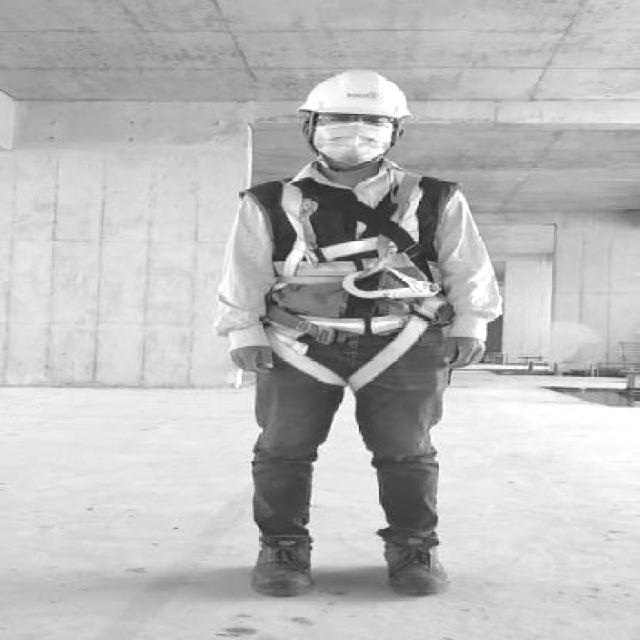face_mask: (306, 113, 396, 165)
glasses: (318, 106, 394, 131)
hand_noglove: (225, 336, 284, 378), (438, 333, 491, 373)
head_helmet: (299, 70, 413, 119)
person: (207, 74, 507, 606)
shoes: (372, 527, 460, 602), (244, 526, 321, 600)
vest: (239, 168, 464, 338)
